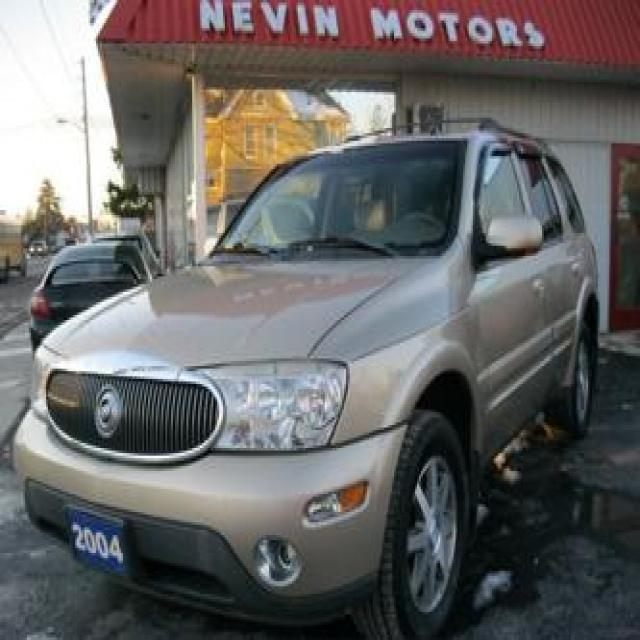Car: (9, 220, 626, 609)
